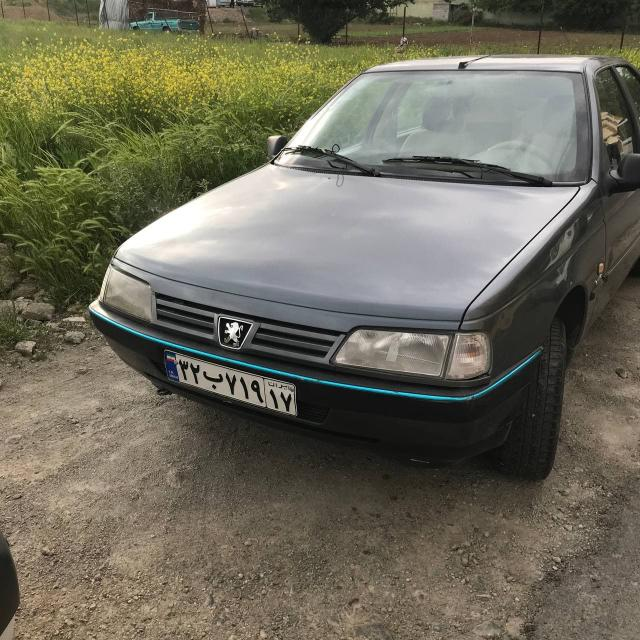Plates: (157, 350, 304, 416)
